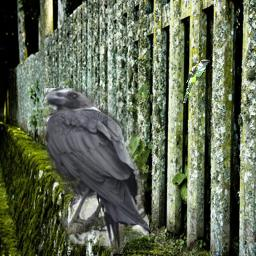Crow: (44, 88, 149, 254)
Cuckoo: (183, 59, 211, 103)
